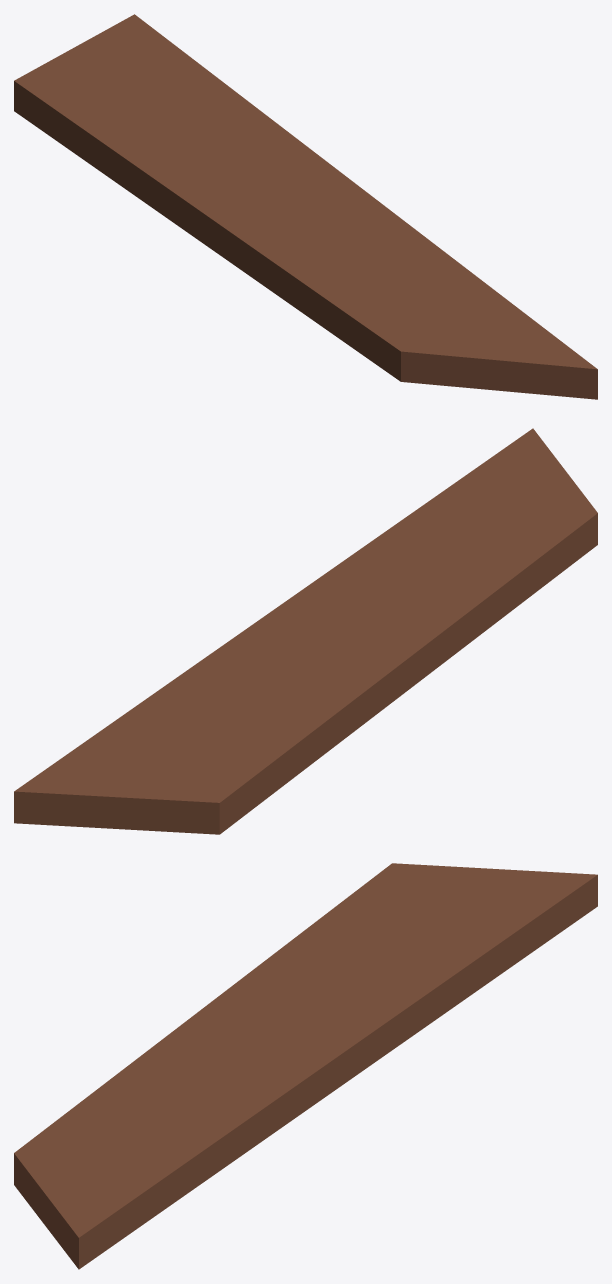
The model's file is LPWarPack_Plank3.fbx.
The picture shows the model from 3 angles, top to bottom: view 1: azimuth 30°, elevation 25°; view 2: azimuth 150°, elevation 25°; view 3: azimuth 330°, elevation 25°; orthographic projection. The views are drawn at different scales.
Visible parts, largest first — view 1: Plank3; view 2: Plank3; view 3: Plank3.
Boxes of the visible parts, x1,y1,x2,y2 form: Plank3: [14, 14, 597, 399]; Plank3: [14, 428, 597, 834]; Plank3: [14, 863, 597, 1269].
Bounding box in the file's own units: 17.04 × 3.12 × 89.25.
